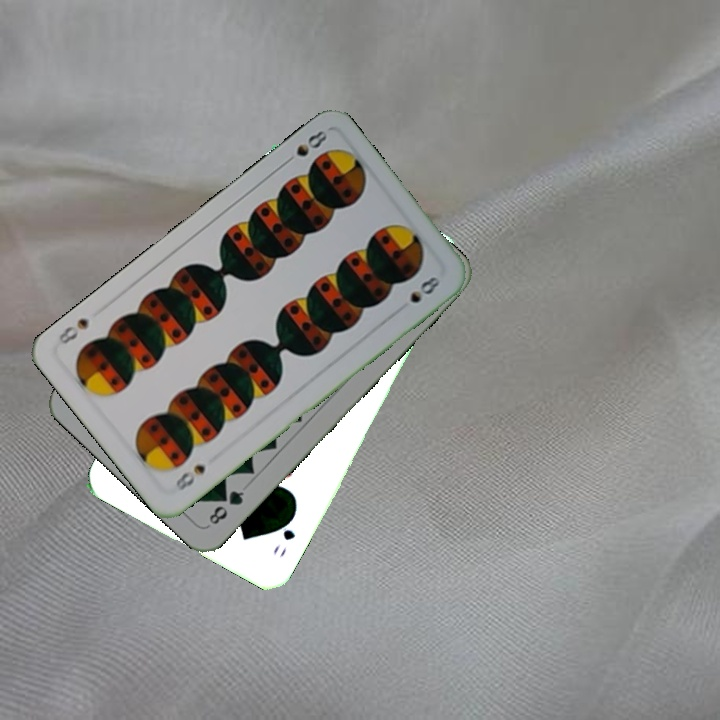G8: (204, 486, 247, 528)
GO: (268, 510, 298, 559)
S8: (279, 126, 331, 168), (171, 460, 209, 494)
